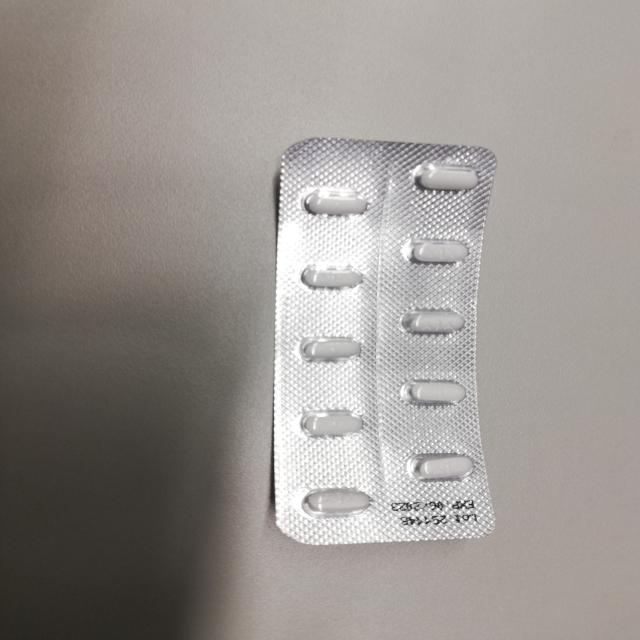Pill: (402, 158, 487, 196), (394, 304, 470, 342), (295, 185, 374, 221), (295, 257, 374, 292), (408, 450, 483, 486), (398, 375, 472, 411), (294, 406, 368, 440), (402, 235, 474, 269), (294, 334, 366, 366), (300, 485, 378, 514)
